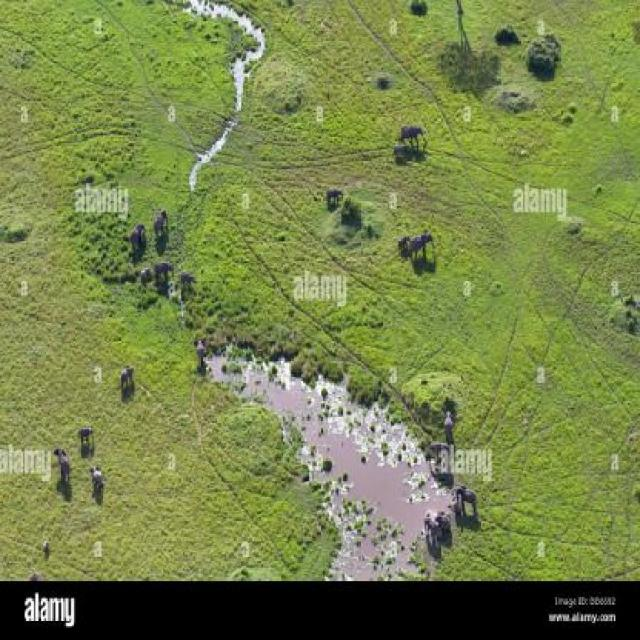elephant: (413, 502, 450, 552), (393, 116, 433, 150), (422, 434, 458, 463), (408, 226, 438, 256), (148, 208, 174, 242), (54, 448, 75, 489), (440, 404, 462, 438), (77, 417, 101, 448), (127, 219, 150, 250), (432, 503, 458, 529), (327, 174, 345, 208), (452, 482, 474, 509), (89, 461, 106, 493), (188, 336, 207, 364), (155, 258, 176, 282), (115, 364, 133, 388), (394, 222, 408, 252), (181, 269, 196, 296), (390, 145, 408, 163), (138, 265, 152, 287)
